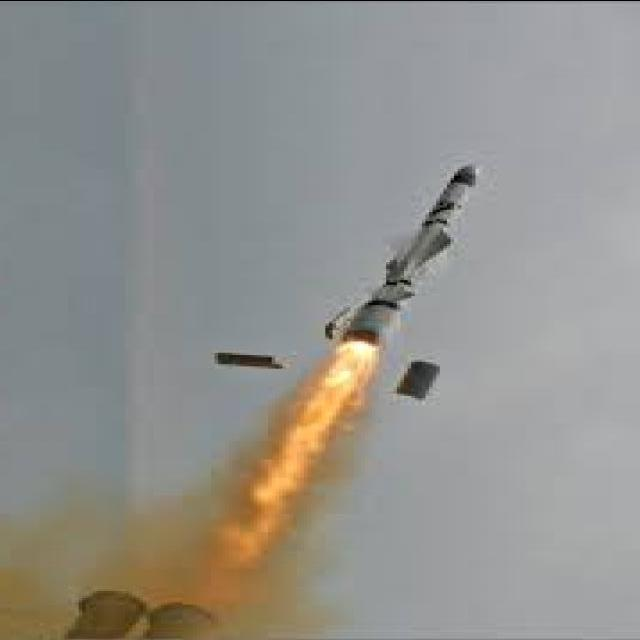missile: (304, 160, 482, 351)
